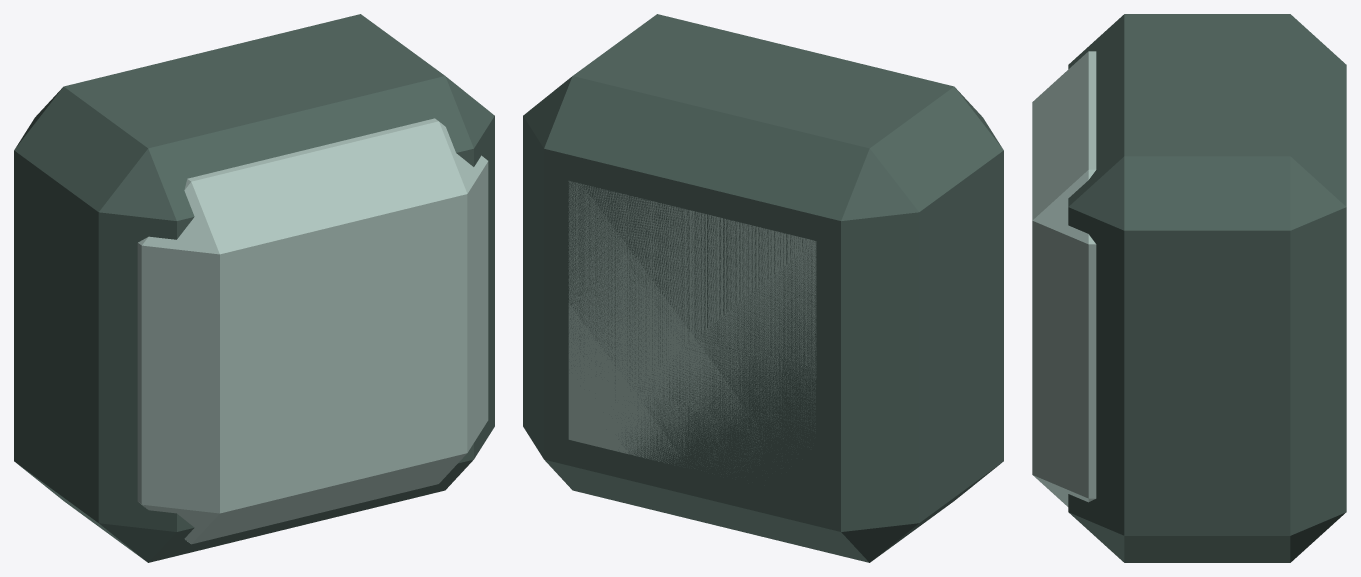
File: Terrain_Block1x1.gltf
3 views of the same model, side by side, from view 1: azimuth 30°, elevation 25°; view 2: azimuth 150°, elevation 25°; view 3: azimuth 270°, elevation 25° (orthographic).
Parts seen in each view (by area): view 1: Terrain_Block1x1_baked; view 2: Terrain_Block1x1_baked; view 3: Terrain_Block1x1_baked.
Boxes of the visible parts, <box> form: Terrain_Block1x1_baked: <box>14,14,494,562</box>; Terrain_Block1x1_baked: <box>523,14,1003,562</box>; Terrain_Block1x1_baked: <box>1032,14,1346,562</box>.
Size of the model in its own units: 1 by 1 by 0.7.
